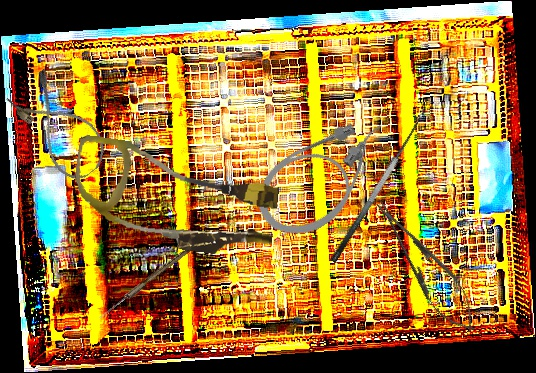Cannula: (67, 134, 283, 262), (242, 103, 410, 252), (4, 66, 115, 188)
Needle Holder: (364, 191, 488, 342)
Spatula Surgical: (317, 110, 429, 265)
Surgical Spoon: (97, 233, 208, 322)
